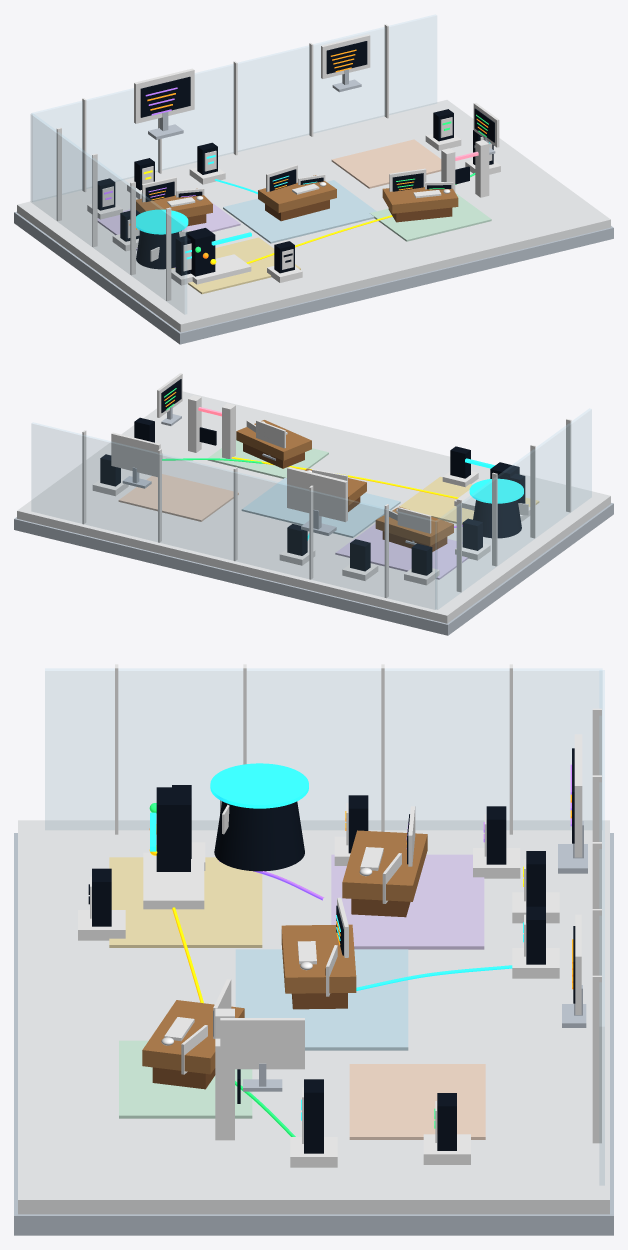
The model's file is crewdesk-cockpit.glb.
3 renders of one model, top to bottom at view 1: azimuth 30°, elevation 25°; view 2: azimuth 150°, elevation 25°; view 3: azimuth 270°, elevation 25°, orthographic. The views are drawn at different scales.
Parts seen in each view (by area): view 1: floor_base, glass_back_wall, glass_left_wall, floor_shadow_edge, zone_coding_pad, zone_review_pad, zone_qa_pad, zone_deploy_pad, coding_dual_terminal_top, qa_observability_desk_top, planning_wall_timeline_glass, planning_wall_timeline_shell (+21 smaller); view 2: floor_base, glass_back_wall, glass_left_wall, floor_shadow_edge, zone_review_pad, zone_coding_pad, planning_wall_timeline_shell, zone_planning_pad, zone_deploy_pad, review_pr_board_shell, zone_qa_pad, vault_core (+31 smaller); view 3: floor_base, glass_left_wall, floor_shadow_edge, zone_coding_pad, zone_deploy_pad, zone_review_pad, zone_planning_pad, zone_qa_pad, vault_core, qa_test_wall_shell, planning_command_desk_top, coding_dual_terminal_top (+24 smaller).
Part boxes in pixels (bbox=[...]): floor_base: bbox=[17, 100, 610, 332]; glass_back_wall: bbox=[32, 15, 436, 201]; glass_left_wall: bbox=[31, 114, 186, 313]; floor_shadow_edge: bbox=[14, 211, 613, 344]; zone_coding_pad: bbox=[223, 180, 376, 243]; zone_review_pad: bbox=[331, 139, 441, 188]; zone_qa_pad: bbox=[370, 193, 491, 241]; zone_deploy_pad: bbox=[171, 237, 300, 294]; coding_dual_terminal_top: bbox=[258, 175, 336, 212]; qa_observability_desk_top: bbox=[382, 187, 458, 213]; planning_wall_timeline_glass: bbox=[140, 76, 190, 117]; planning_wall_timeline_shell: bbox=[134, 68, 194, 123]; floor_base: bbox=[17, 391, 610, 623]; glass_back_wall: bbox=[32, 423, 436, 609]; glass_left_wall: bbox=[435, 409, 591, 609]; floor_shadow_edge: bbox=[14, 503, 613, 635]; zone_review_pad: bbox=[118, 474, 238, 521]; zone_coding_pad: bbox=[241, 478, 400, 537]; planning_wall_timeline_shell: bbox=[287, 467, 347, 522]; zone_planning_pad: bbox=[335, 523, 468, 579]; zone_deploy_pad: bbox=[399, 476, 539, 524]; review_pr_board_shell: bbox=[111, 432, 160, 477]; zone_qa_pad: bbox=[207, 437, 328, 478]; vault_core: bbox=[473, 500, 521, 538]; floor_base: bbox=[18, 820, 609, 1214]; glass_left_wall: bbox=[45, 669, 601, 829]; floor_shadow_edge: bbox=[14, 833, 613, 1235]; zone_coding_pad: bbox=[235, 949, 408, 1050]; zone_deploy_pad: bbox=[109, 857, 262, 947]; zone_review_pad: bbox=[349, 1064, 485, 1139]; zone_planning_pad: bbox=[331, 854, 484, 949]; zone_qa_pad: bbox=[119, 1040, 252, 1118]; vault_core: bbox=[214, 801, 304, 871]; qa_test_wall_shell: bbox=[220, 1018, 304, 1069]; planning_command_desk_top: bbox=[342, 830, 427, 901]; coding_dual_terminal_top: bbox=[281, 924, 356, 993].
Size of the model in its own units: 9.18 by 2.42 by 6.08.
